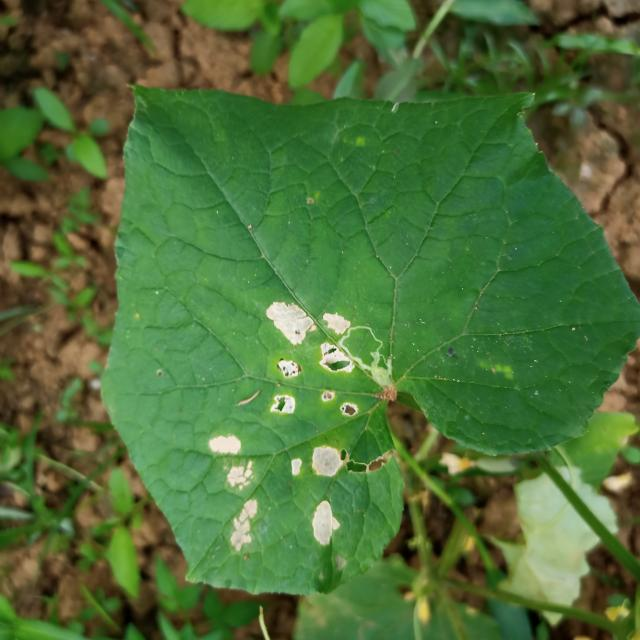disease_cucumber: (268, 304, 352, 545), (210, 434, 258, 550)
